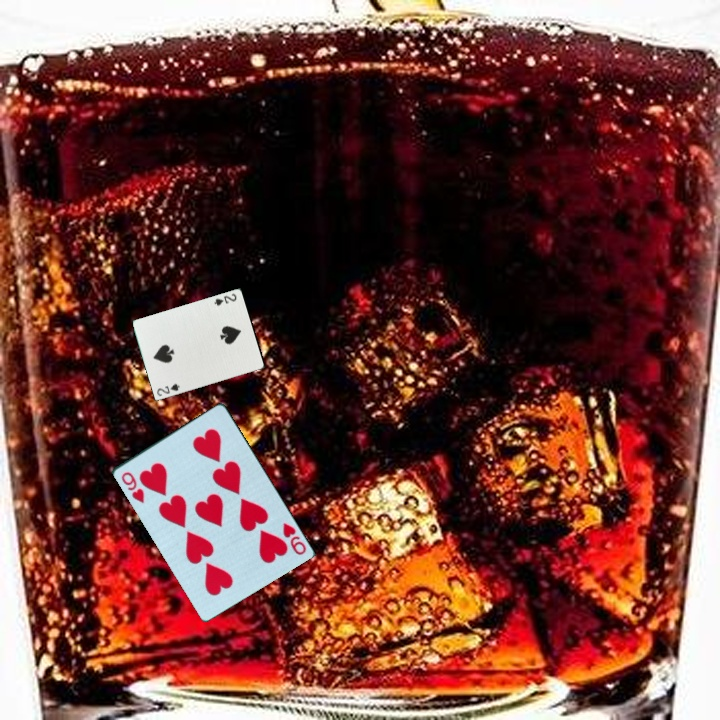2s: (153, 380, 183, 399), (210, 290, 239, 308)
9h: (279, 519, 309, 558), (117, 468, 147, 506)
